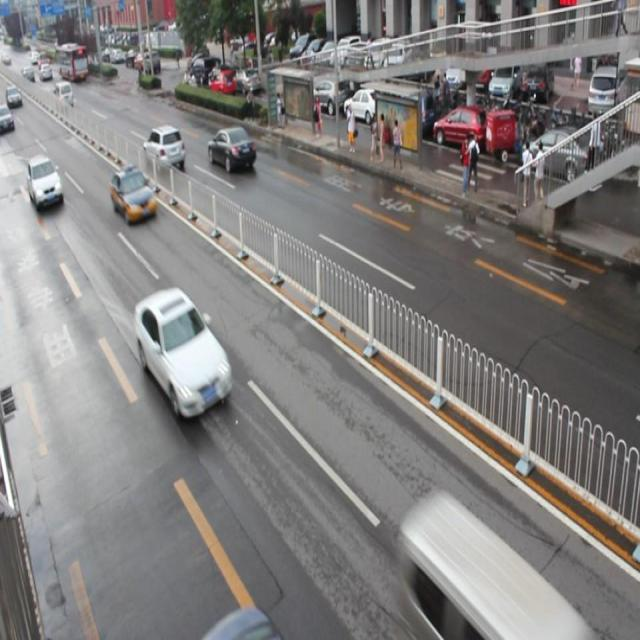car: (134, 286, 232, 417), (207, 603, 281, 640), (110, 166, 157, 224), (206, 125, 256, 174), (143, 123, 187, 172), (26, 155, 65, 210)
truck: (400, 489, 584, 640)
